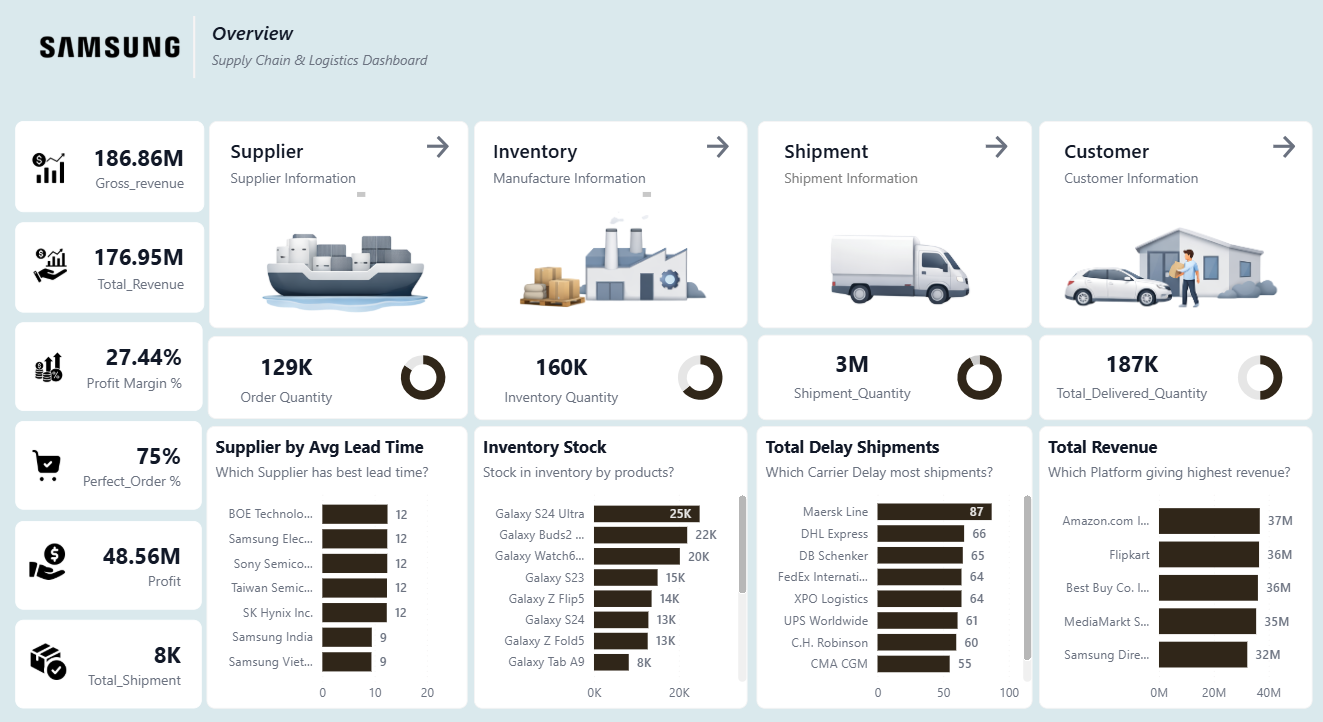

Layout of this report page (visuals, bound fields, positions):
{"tool":"powerbi","page":{"name":"Overview","canvas":[1280,720],"ordinal":1},"visuals":[{"type":"shape","box":[202.5,125.5,250,200],"z":0},{"type":"shape","box":[458.7,125.5,263.8,200],"z":1000},{"type":"shape","box":[732.5,125.5,265,200],"z":2000},{"type":"shape","box":[1003.7,125.5,263.8,200],"z":3000},{"type":"image","box":[235.9,190.2,187.1,144.3],"z":4000},{"type":"image","box":[482.4,175.9,207.5,160.5],"z":5000},{"type":"image","box":[790,203.7,154.4,118.2],"z":6000},{"type":"image","box":[1019.8,181.6,233.6,163.9],"z":7000},{"type":"actionButton","box":[407.5,131.7,30,37.5],"z":8000},{"type":"actionButton","box":[677.5,131.7,30,37.5],"z":9000},{"type":"actionButton","box":[947.5,131.7,30,37.5],"z":10000},{"type":"actionButton","box":[1224.3,131.3,30.2,37.4],"z":11000},{"type":"textbox","title":"Supplier","box":[218.3,141.3,139.9,62.7],"z":12000},{"type":"textbox","title":"Customer","box":[1023.4,141.1,140.6,48.9],"z":13000},{"type":"textbox","title":"Shipment","box":[752.3,141.3,167.7,49.5],"z":14000},{"type":"textbox","title":"Inventory","box":[472.2,141.2,162.5,62.5],"z":15000},{"type":"textbox","title":"Overview","box":[200.3,28,225,48.9],"z":16000},{"type":"shape","box":[173.4,24.3,29.3,59.9],"z":17000},{"type":"image","box":[28.9,26.4,149.6,54.3],"z":18000},{"type":"cardVisual","fields":{"Data":["MeasuresTable.Total_Revenue"]},"box":[15.5,223,182.2,86.9],"z":19000},{"type":"cardVisual","fields":{"Data":["MeasuresTable.Profit"]},"box":[15.5,511.3,179.8,85.7],"z":20000},{"type":"cardVisual","fields":{"Data":["MeasuresTable.Profit Margin %"]},"box":[15.5,319.5,181,85.7],"z":21000},{"type":"cardVisual","fields":{"Data":["MeasuresTable.Perfect_Order %"]},"box":[15.5,414.8,179.8,85.7],"z":22000},{"type":"cardVisual","fields":{"Data":["MeasuresTable.Total_Shipment"]},"box":[15.5,606.6,179.8,85.7],"z":23000},{"type":"cardVisual","fields":{"Data":["Sum(fact_sales.gross_revenue)"]},"box":[15.5,125.3,182.2,88.1],"z":24000},{"type":"shape","box":[201.2,332.7,251.2,80],"z":25000},{"type":"shape","box":[458.7,331.7,263.8,82.5],"z":26000},{"type":"shape","box":[732.5,331.7,265,82.5],"z":27000},{"type":"shape","box":[1003.7,331.7,263.8,82.5],"z":28000},{"type":"card","title":"ass","fields":{"Values":["MeasuresTable.Order_QTY"]},"box":[211.2,341.7,132.5,63.8],"z":29000},{"type":"card","fields":{"Values":["MeasuresTable.Inventory_Value"]},"box":[476.2,341.7,132.5,63.8],"z":30000},{"type":"card","fields":{"Values":["MeasuresTable.Total_Shipment_Quantity"]},"box":[748.7,338,148.8,63.8],"z":31000},{"type":"card","fields":{"Values":["MeasuresTable.Total_Delivered_Quantity"]},"box":[1012.5,338,162.5,63.8],"z":32000},{"type":"clusteredBarChart","title":"Supplier by Avg Lead Time","fields":{"Category":["dim_supplier.supplier_name"],"Y":["MeasuresTable.Avg_Lead_Time"]},"box":[200.1,419.6,252.1,272.7],"z":33000},{"type":"clusteredBarChart","title":"Inventory Stock","fields":{"Category":["dim_product.product_name"],"Y":["MeasuresTable.Inventory_Value"]},"box":[458.2,419.6,264.2,272.7],"z":34000},{"type":"clusteredBarChart","title":"Total Delay Shipments","fields":{"Category":["fact_shipment.carrier"],"Y":["MeasuresTable.Total_Delay"]},"box":[730.9,419.6,266.6,272.7],"z":35000},{"type":"clusteredBarChart","title":"Total Revenue","fields":{"Category":["dim_customer.customer_name"],"Y":["MeasuresTable.Total_Revenue"]},"box":[1003.6,419.6,264.2,272.7],"z":36000},{"type":"donutChart","fields":{"Y":["MeasuresTable.Inventory_Value","MeasuresTable.Safety_Stock"]},"box":[637.5,341.7,80,63.8],"z":37000},{"type":"donutChart","fields":{"Y":["MeasuresTable.Total_Shipment","MeasuresTable.Total_Delay"]},"box":[906.2,341.7,81.2,63.8],"z":38000},{"type":"donutChart","fields":{"Y":["MeasuresTable.Total_Delivered_Quantity","MeasuresTable.Total_QTY_Delay"]},"box":[1180,341.7,75,63.8],"z":39000},{"type":"donutChart","title":"ass","fields":{"Y":["MeasuresTable.Order_QTY","MeasuresTable.Defect_Rate"]},"box":[376.2,341.7,66.2,63.8],"z":40000},{"type":"image","box":[27.8,154.2,39.8,32.6],"z":41000},{"type":"image","box":[31.4,247.1,36.2,35],"z":42000},{"type":"image","box":[32.6,344.8,31.4,36.2],"z":43000},{"type":"image","box":[27.8,437.7,36.2,38.6],"z":44000},{"type":"image","box":[27.8,533,37.4,35],"z":45000},{"type":"image","box":[29,629.6,37.4,35],"z":46000}]}

Visuals, with their boxes on the page's 1280x720 design canvas (x1, y1, x2, y2). These are canvas units, not pixel positions in the 1323x722 screenshot, which may show the page scaled, cropped or inside an application window:
shape: l=202, t=126, r=452, b=326
shape: l=459, t=126, r=722, b=326
shape: l=732, t=126, r=998, b=326
shape: l=1004, t=126, r=1268, b=326
image: l=236, t=190, r=423, b=334
image: l=482, t=176, r=690, b=336
image: l=790, t=204, r=944, b=322
image: l=1020, t=182, r=1253, b=346
actionButton: l=408, t=132, r=438, b=169
actionButton: l=678, t=132, r=708, b=169
actionButton: l=948, t=132, r=978, b=169
actionButton: l=1224, t=131, r=1254, b=169
"Supplier" textbox: l=218, t=141, r=358, b=204
"Customer" textbox: l=1023, t=141, r=1164, b=190
"Shipment" textbox: l=752, t=141, r=920, b=191
"Inventory" textbox: l=472, t=141, r=635, b=204
"Overview" textbox: l=200, t=28, r=425, b=77
shape: l=173, t=24, r=203, b=84
image: l=29, t=26, r=178, b=81
cardVisual - MeasuresTable.Total_Revenue: l=16, t=223, r=198, b=310
cardVisual - MeasuresTable.Profit: l=16, t=511, r=195, b=597
cardVisual - MeasuresTable.Profit Margin %: l=16, t=320, r=196, b=405
cardVisual - MeasuresTable.Perfect_Order %: l=16, t=415, r=195, b=500
cardVisual - MeasuresTable.Total_Shipment: l=16, t=607, r=195, b=692
cardVisual - Sum(fact_sales.gross_revenue): l=16, t=125, r=198, b=213
shape: l=201, t=333, r=452, b=413
shape: l=459, t=332, r=722, b=414
shape: l=732, t=332, r=998, b=414
shape: l=1004, t=332, r=1268, b=414
"ass" card: l=211, t=342, r=344, b=406
card - MeasuresTable.Inventory_Value: l=476, t=342, r=609, b=406
card - MeasuresTable.Total_Shipment_Quantity: l=749, t=338, r=898, b=402
card - MeasuresTable.Total_Delivered_Quantity: l=1012, t=338, r=1175, b=402
"Supplier by Avg Lead Time" clusteredBarChart: l=200, t=420, r=452, b=692
"Inventory Stock" clusteredBarChart: l=458, t=420, r=722, b=692
"Total Delay Shipments" clusteredBarChart: l=731, t=420, r=998, b=692
"Total Revenue" clusteredBarChart: l=1004, t=420, r=1268, b=692
donutChart - MeasuresTable.Inventory_Value x MeasuresTable.Safety_Stock: l=638, t=342, r=718, b=406
donutChart - MeasuresTable.Total_Shipment x MeasuresTable.Total_Delay: l=906, t=342, r=987, b=406
donutChart - MeasuresTable.Total_Delivered_Quantity x MeasuresTable.Total_QTY_Delay: l=1180, t=342, r=1255, b=406
"ass" donutChart: l=376, t=342, r=442, b=406
image: l=28, t=154, r=68, b=187
image: l=31, t=247, r=68, b=282
image: l=33, t=345, r=64, b=381
image: l=28, t=438, r=64, b=476
image: l=28, t=533, r=65, b=568
image: l=29, t=630, r=66, b=665
